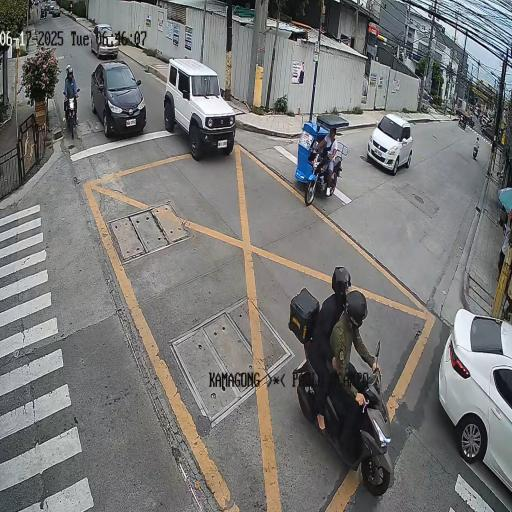Car: (433, 288, 512, 510), (161, 49, 238, 164), (87, 56, 149, 147), (370, 103, 410, 184)
Motor: (274, 246, 400, 506), (301, 153, 346, 212), (59, 89, 79, 144), (466, 129, 487, 171)
